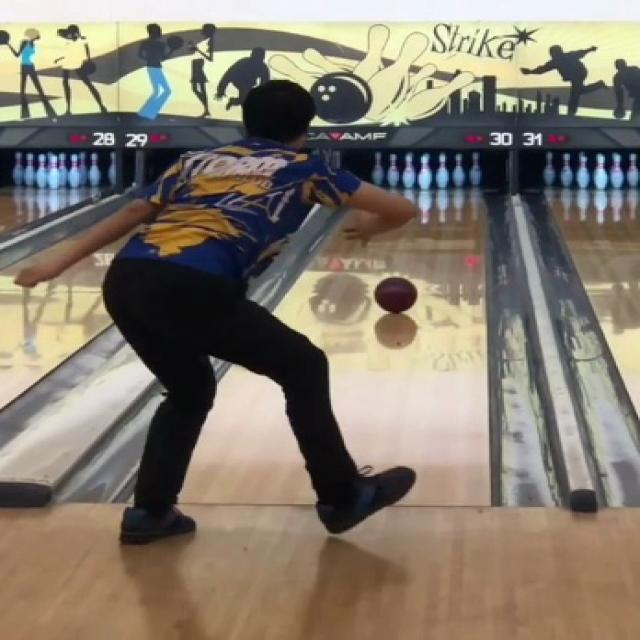alley: (274, 192, 486, 504), (182, 368, 313, 503)
balls: (373, 278, 416, 312)
bottle: (373, 152, 478, 186)
